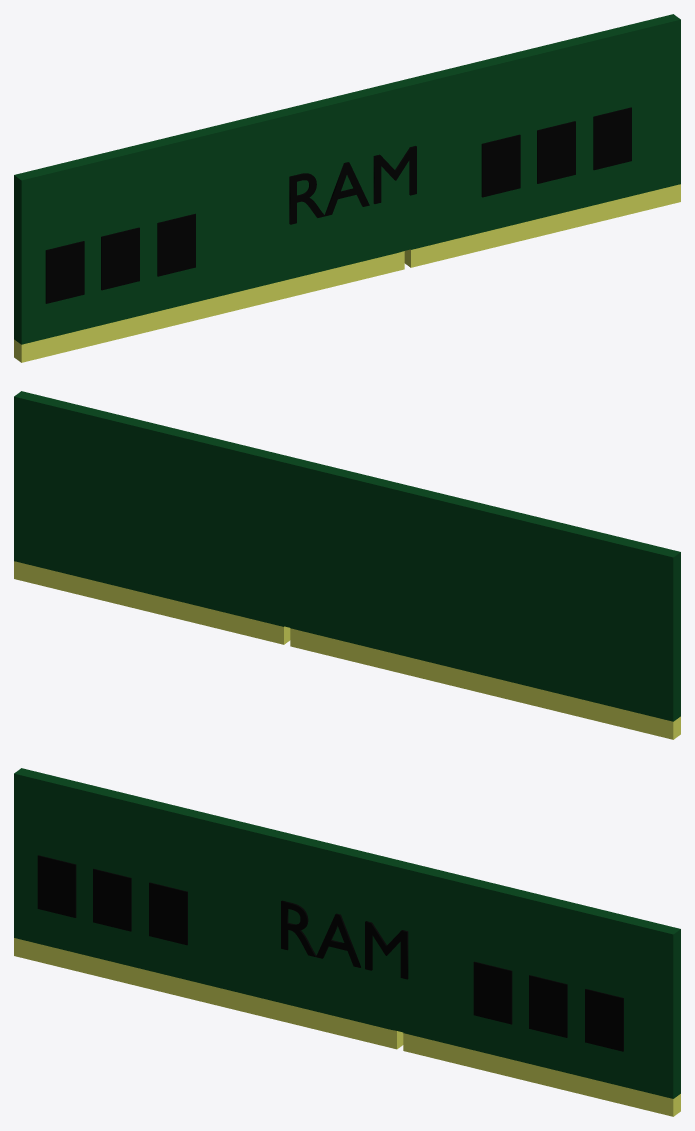
The model's file is ram.gltf.
3 renders of one model, top to bottom at view 1: azimuth 30°, elevation 25°; view 2: azimuth 150°, elevation 25°; view 3: azimuth 330°, elevation 25°, orthographic.
Parts seen in each view (by area): view 1: Cube, Text, Cube.006, Cube.001, Cube.002, Cube.003, Cube.004, Cube.005; view 2: Cube; view 3: Cube, Text, Cube.001, Cube.006, Cube.002, Cube.003, Cube.004, Cube.005.
Boxes of the visible parts, left/top/right/bottom form: Cube: left=14, top=14, right=680, bottom=362; Text: left=289, top=146, right=416, bottom=224; Cube.006: left=481, top=134, right=520, bottom=197; Cube.001: left=45, top=241, right=84, bottom=303; Cube.002: left=101, top=227, right=139, bottom=290; Cube.003: left=157, top=213, right=195, bottom=276; Cube.004: left=593, top=107, right=631, bottom=170; Cube.005: left=537, top=121, right=575, bottom=183; Cube: left=14, top=391, right=680, bottom=739; Cube: left=14, top=768, right=680, bottom=1116; Text: left=281, top=900, right=408, bottom=979; Cube.001: left=37, top=855, right=76, bottom=917; Cube.006: left=473, top=961, right=512, bottom=1024; Cube.002: left=93, top=868, right=131, bottom=931; Cube.003: left=149, top=882, right=187, bottom=945; Cube.004: left=585, top=989, right=623, bottom=1051; Cube.005: left=529, top=975, right=567, bottom=1037.
Bounding box in the file's own units: 9.93 × 2.62 × 0.2242.
